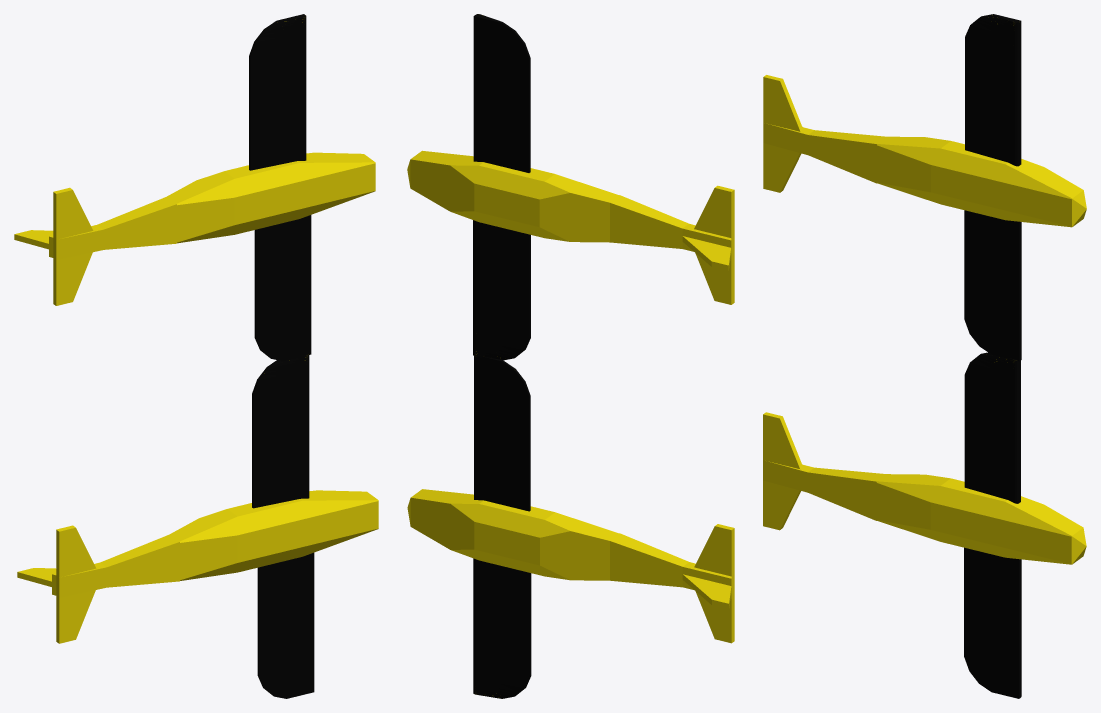
Rendered from meta.obj.
3 renders of one model, left to right at view 1: azimuth 30°, elevation 25°; view 2: azimuth 150°, elevation 25°; view 3: azimuth 330°, elevation 25°, orthographic.
Visible parts, largest first — view 1: LWing.001_LWing; view 2: LWing.001_LWing; view 3: LWing.001_LWing.
Part boxes in pixels (x1,y1,x2,y2): LWing.001_LWing: [14, 14, 378, 698]; LWing.001_LWing: [407, 14, 734, 698]; LWing.001_LWing: [763, 14, 1086, 698].
Bounding box in the file's own units: 9.59 × 18.12 × 1.48.
Materials: 1 (1 with a texture image).
